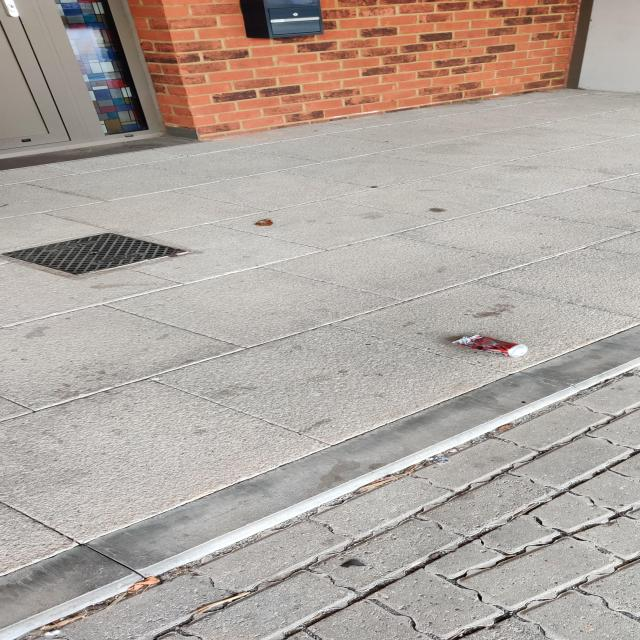litter: (441, 327, 540, 366)
